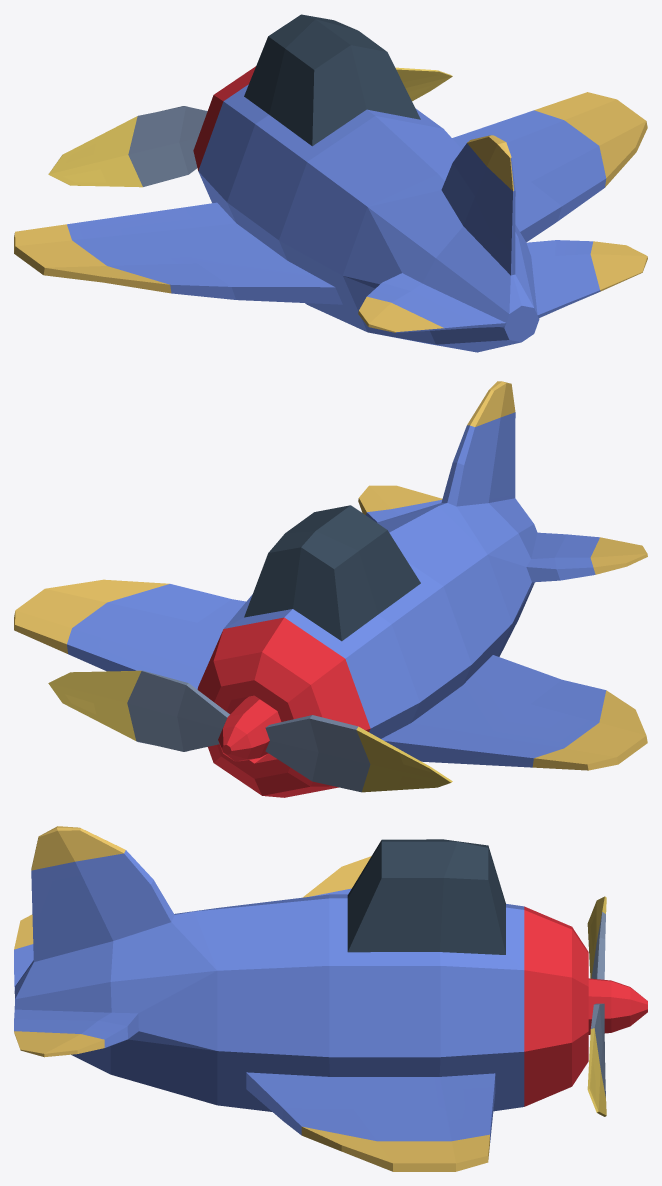
File: Airplane Project.fbx
The picture shows the model from 3 angles, top to bottom: view 1: azimuth 30°, elevation 25°; view 2: azimuth 150°, elevation 25°; view 3: azimuth 270°, elevation 25°; orthographic projection. The views are drawn at different scales.
Visible parts, largest first — view 1: AirPlane, Propellers; view 2: AirPlane, Propellers; view 3: AirPlane, Propellers.
Boxes of the visible parts, left/top/right/bottom form: AirPlane: left=14, top=14, right=647, bottom=352; Propellers: left=48, top=67, right=452, bottom=187; AirPlane: left=14, top=381, right=647, bottom=797; Propellers: left=48, top=670, right=452, bottom=792; AirPlane: left=14, top=826, right=588, bottom=1171; Propellers: left=587, top=896, right=647, bottom=1116.
Size of the model in its own units: 626 by 265 by 531.
